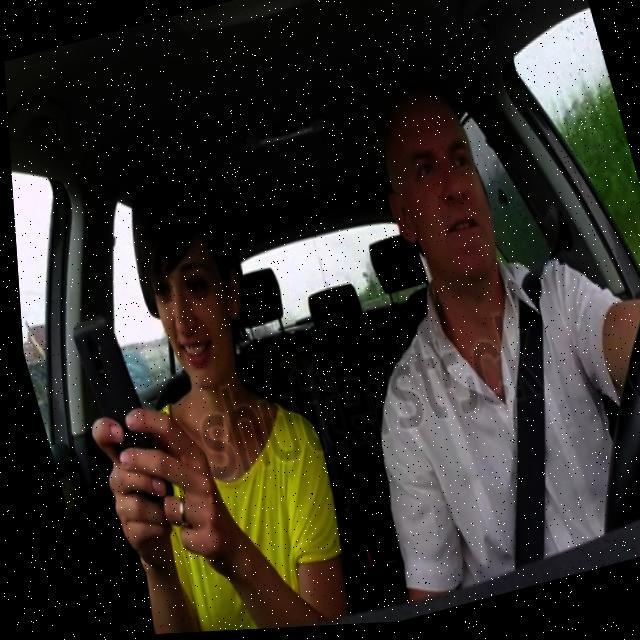PhoneCall: (62, 302, 170, 516)
